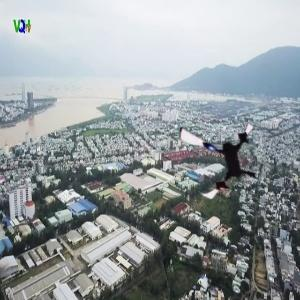drone: (173, 108, 270, 205)
